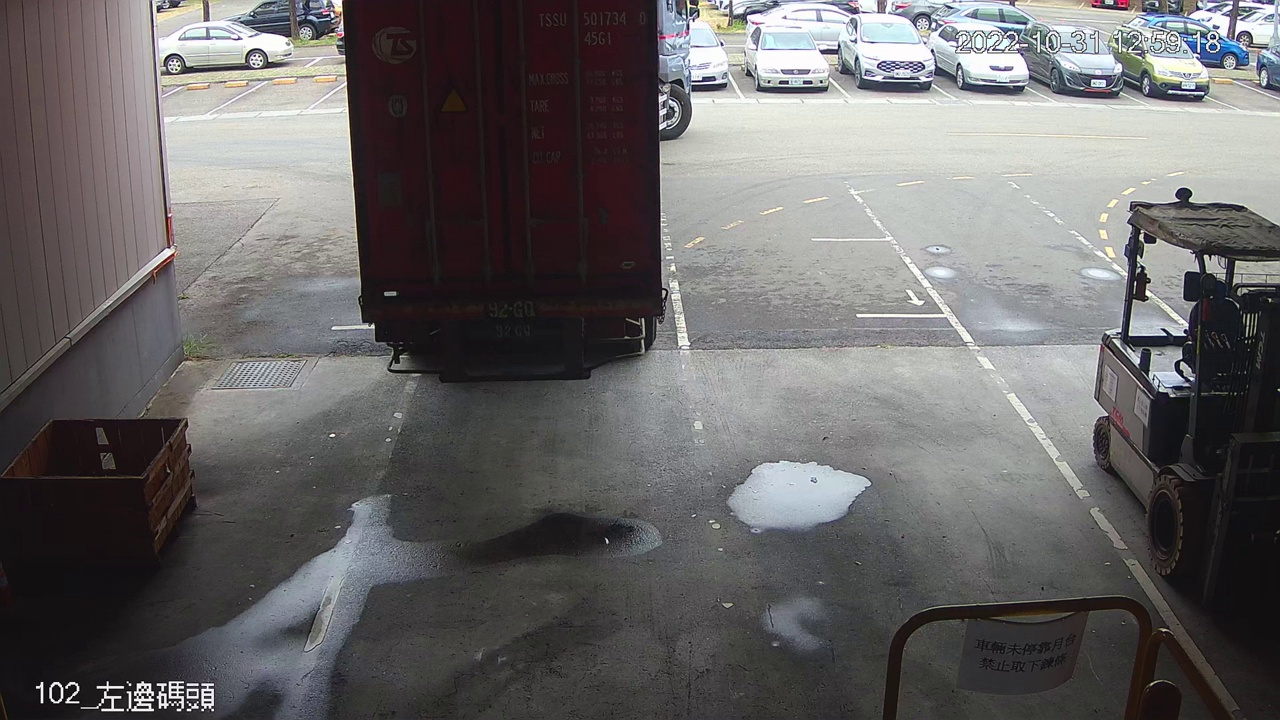container: (531, 4, 653, 50)
